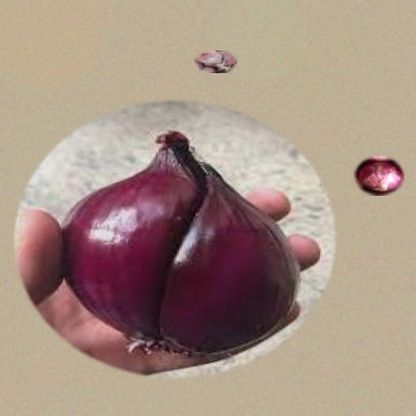damaged: (4, 92, 345, 387)
healthy: (353, 156, 405, 196)
sprouted: (193, 50, 237, 73)
